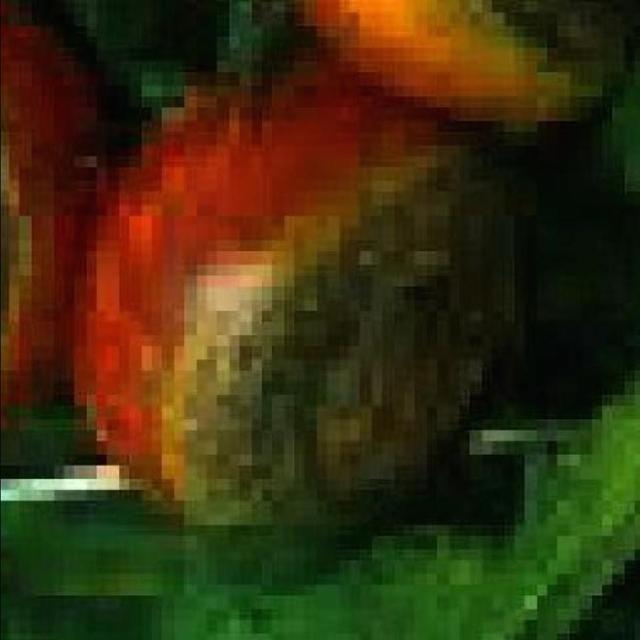Blossom End Rot Fruit: (10, 30, 358, 259)
